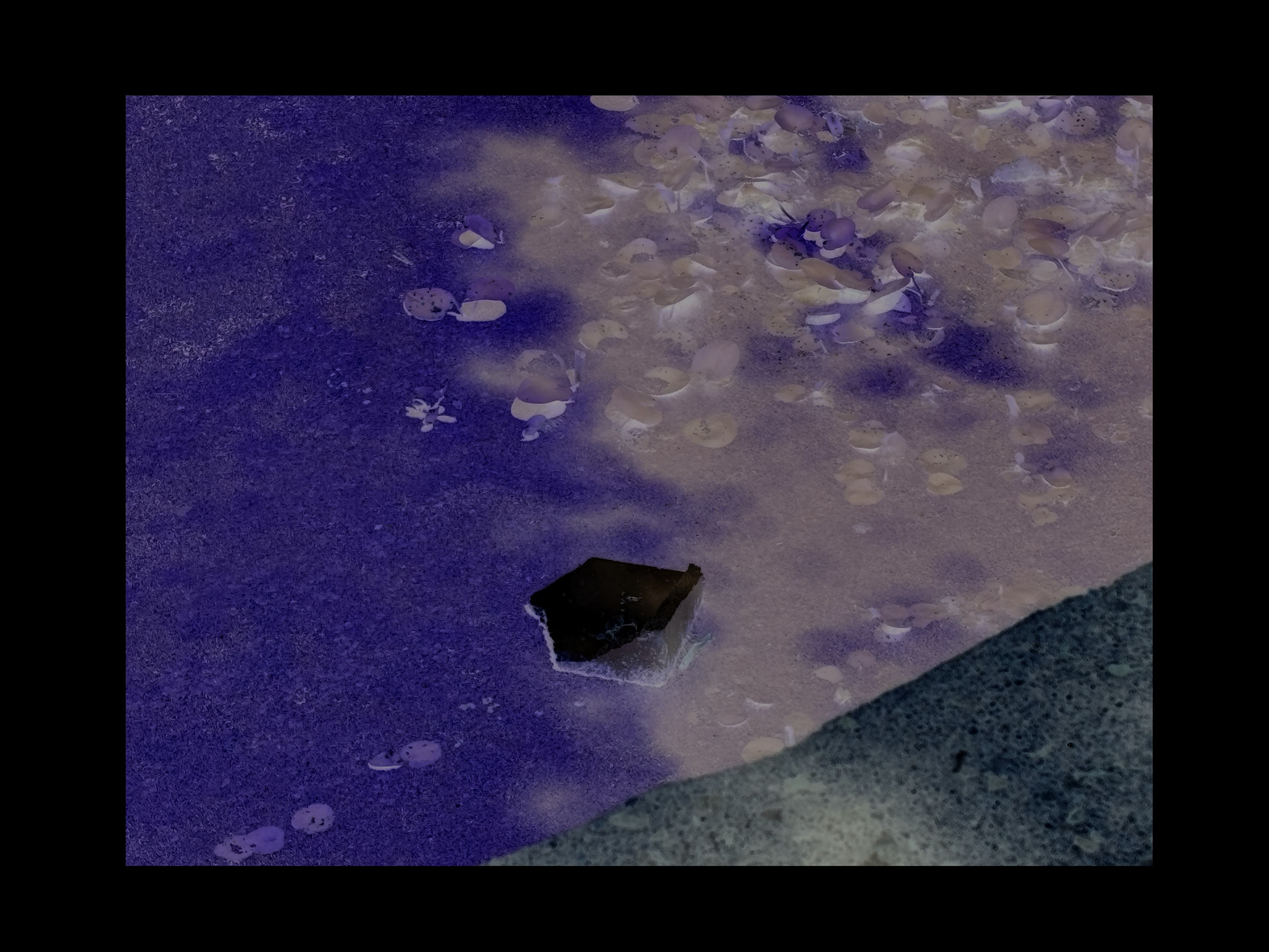Plastic wastes: (529, 560, 706, 684)
